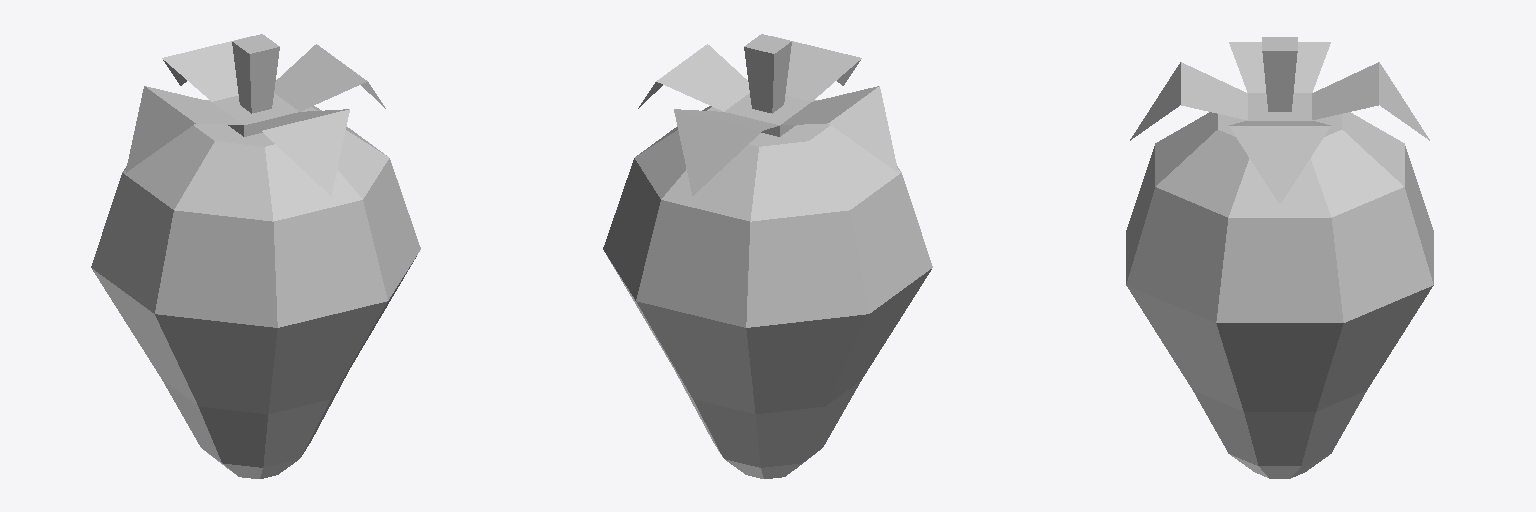
File: strawberry.obj
The picture shows the model from 3 angles: view 1: azimuth 30°, elevation 25°; view 2: azimuth 150°, elevation 25°; view 3: azimuth 270°, elevation 25°; orthographic projection.
Parts seen in each view (by area): view 1: strawberry; view 2: strawberry; view 3: strawberry.
Boxes of the visible parts, <box> form: strawberry: <box>91,34,420,478</box>; strawberry: <box>603,34,932,478</box>; strawberry: <box>1126,37,1433,478</box>.
Size of the model in its own units: 0.1197 by 0.182 by 0.1197.